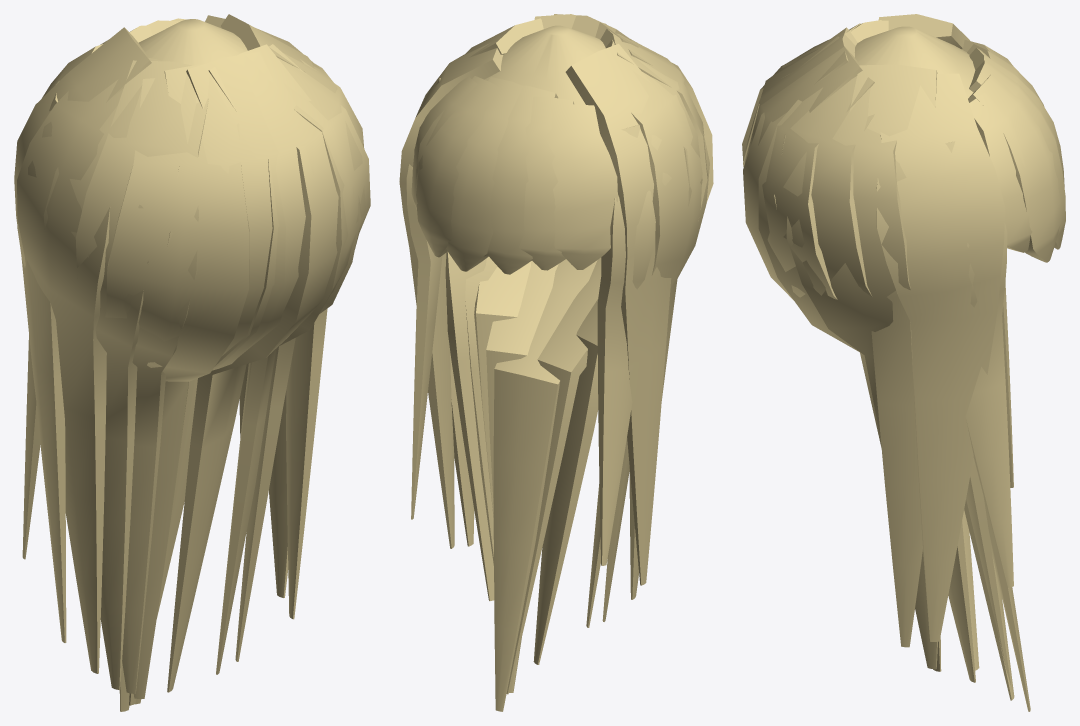
The model's file is hair_2.fbx.
3 renders of one model, left to right at view 1: azimuth 30°, elevation 25°; view 2: azimuth 150°, elevation 25°; view 3: azimuth 270°, elevation 25°, orthographic. The views are drawn at different scales.
Parts seen in each view (by area): view 1: Hair; view 2: Hair; view 3: Hair.
Part boxes in pixels (x1,y1,x2,y2): Hair: [14, 14, 370, 711]; Hair: [399, 14, 713, 711]; Hair: [742, 14, 1065, 711].
Bounding box in the file's own units: 0.2611 × 0.6054 × 0.2619.
